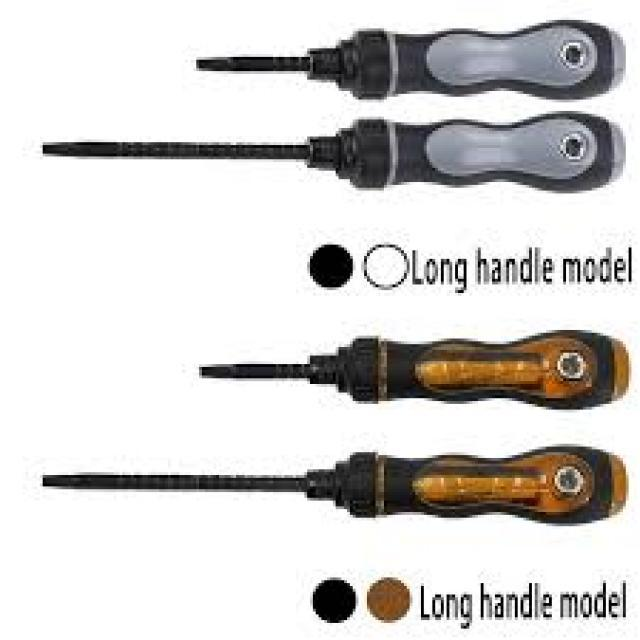screwdriver: (21, 444, 633, 532), (22, 108, 628, 196), (182, 14, 632, 105), (169, 327, 636, 410)
